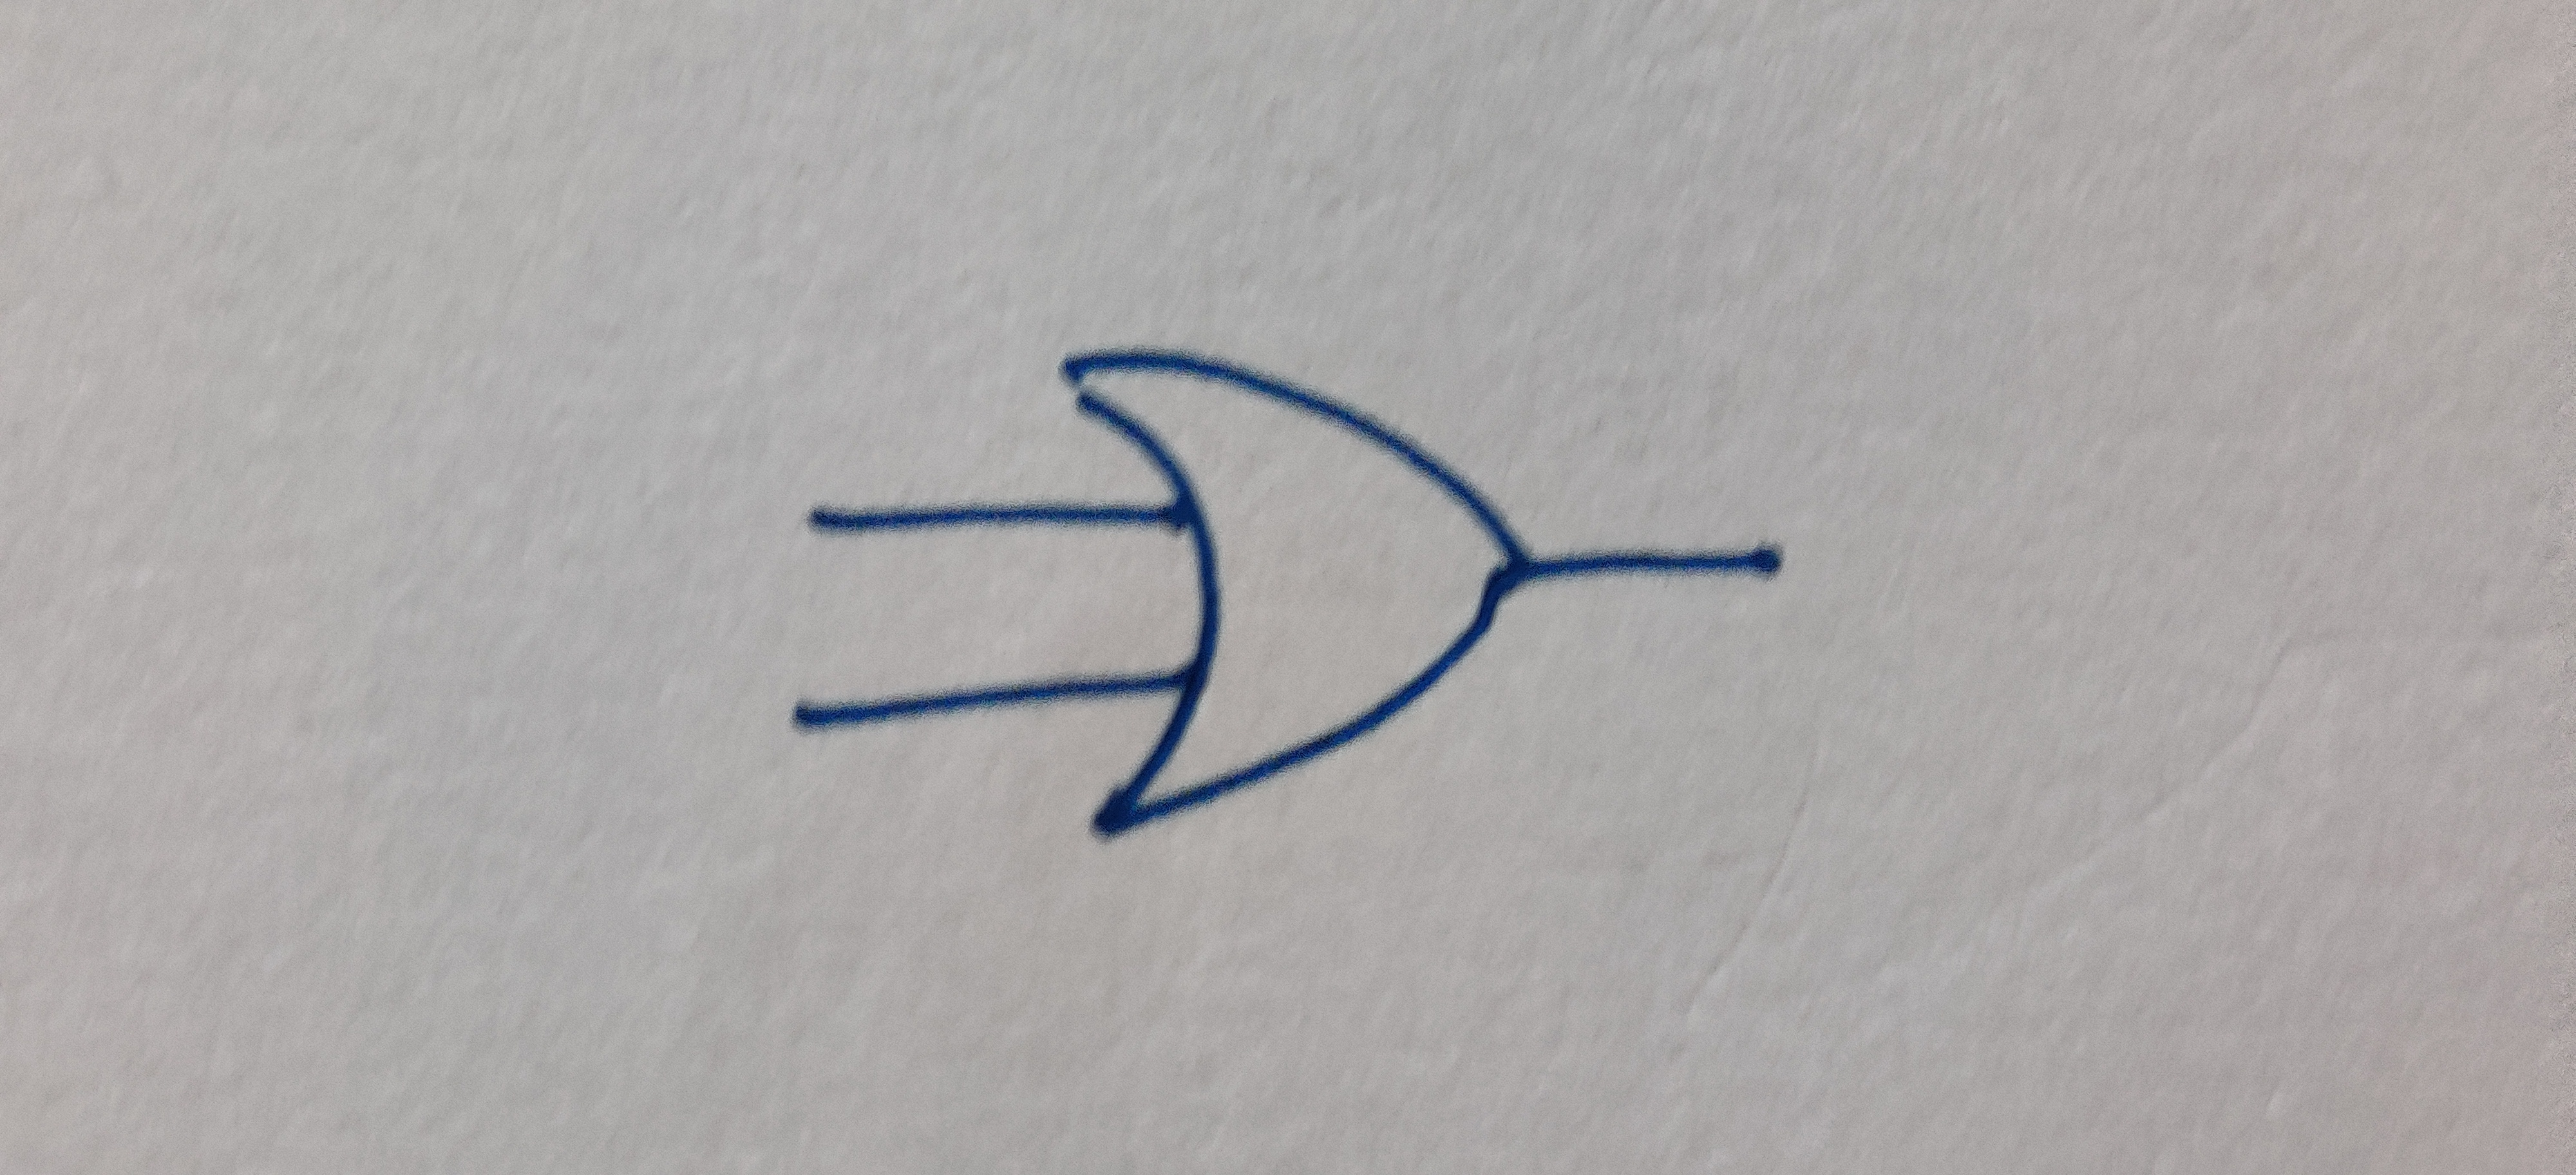or: (1068, 347, 1531, 830)
